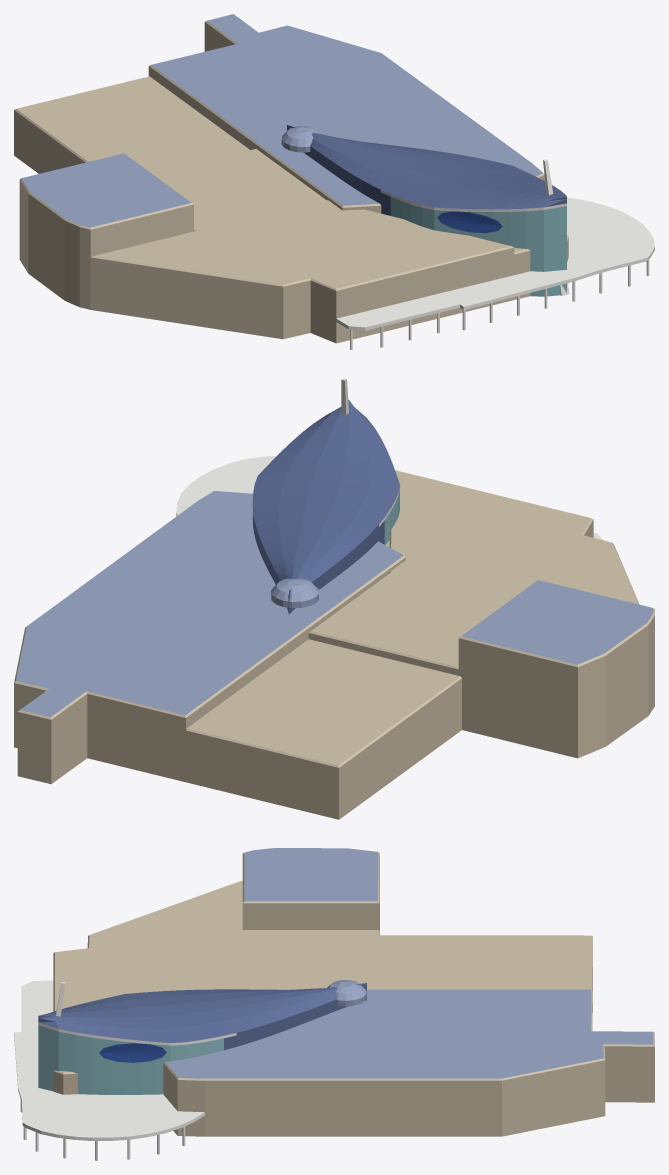
The model's file is atl-georgia-aquarium.glb.
3 renders of one model, top to bottom at view 1: azimuth 30°, elevation 25°; view 2: azimuth 150°, elevation 25°; view 3: azimuth 270°, elevation 25°, orthographic. The views are drawn at different scales.
Parts seen in each view (by area): view 1: Georgia Aquarium; view 2: Georgia Aquarium; view 3: Georgia Aquarium.
Part boxes in pixels (bbox=[...]): Georgia Aquarium: bbox=[14, 14, 654, 349]; Georgia Aquarium: bbox=[14, 378, 654, 819]; Georgia Aquarium: bbox=[14, 848, 654, 1160].
Size of the model in its own units: 184 by 46 by 213.
